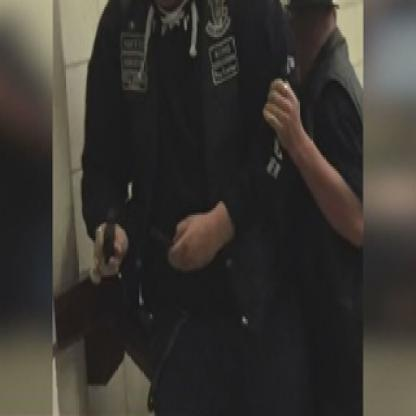gun: (86, 196, 131, 296)
